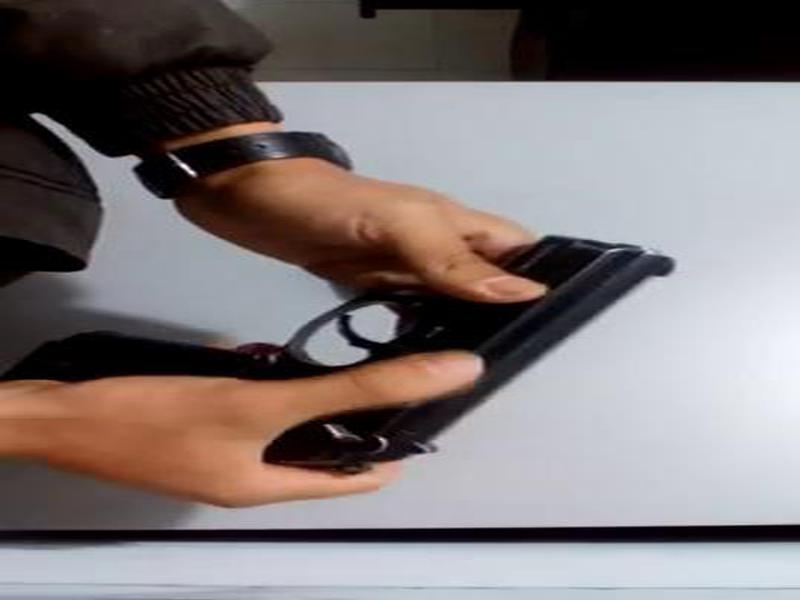Pistola: (1, 212, 689, 487)
